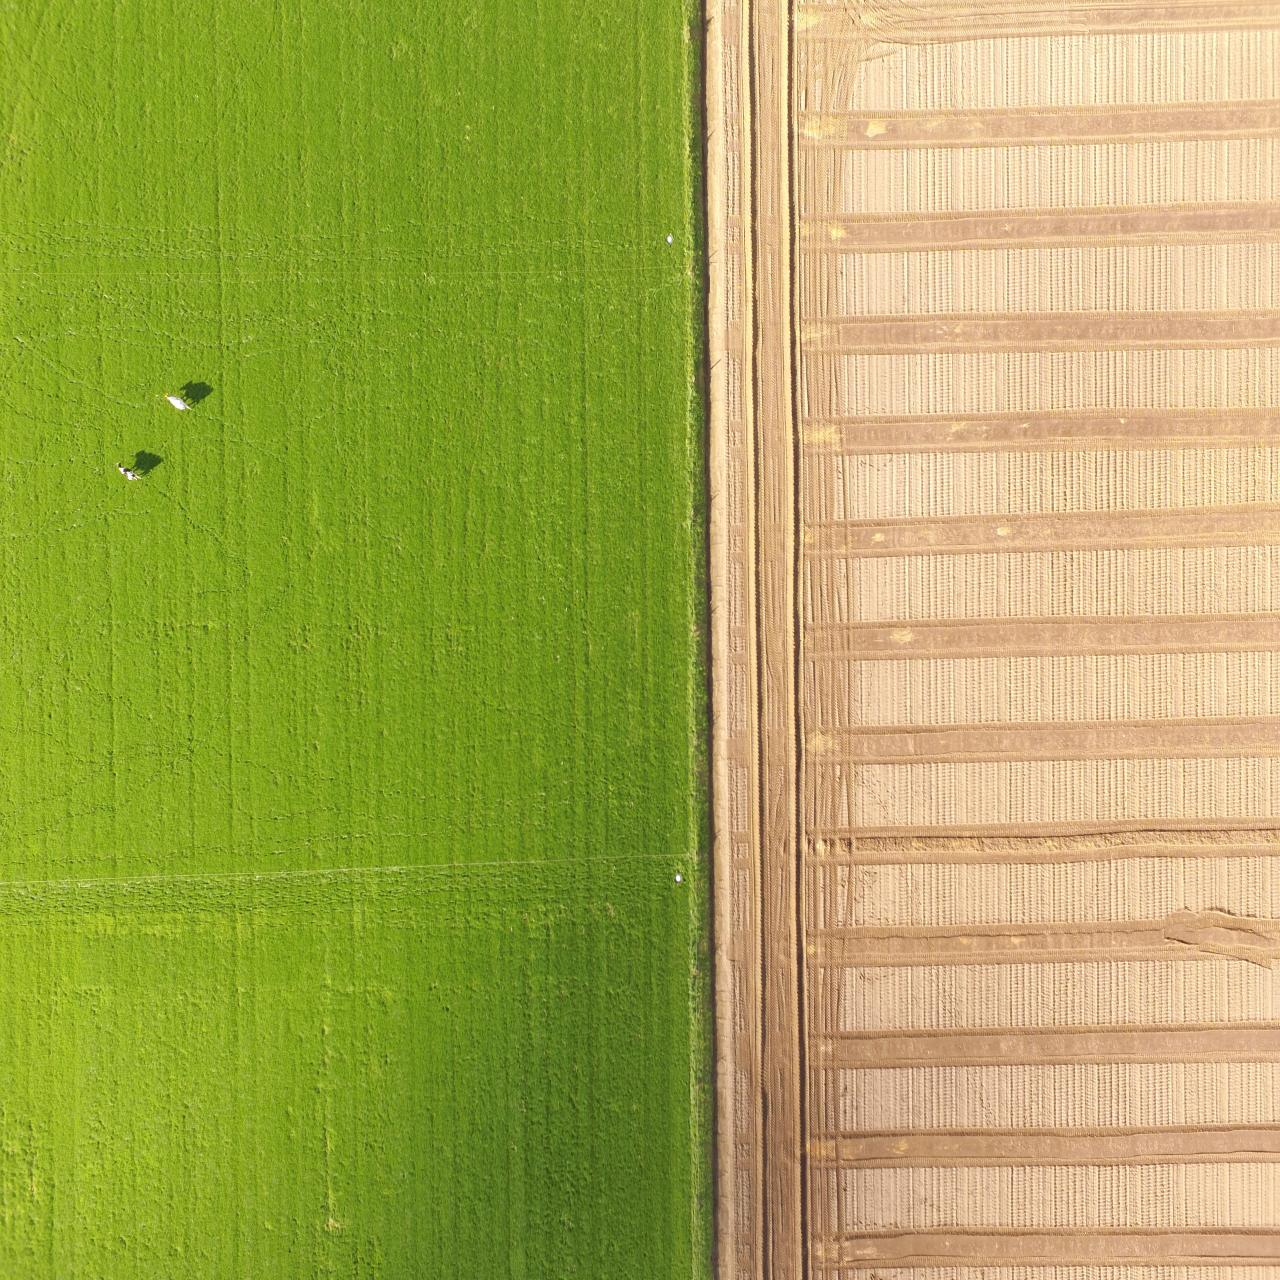cow: (162, 392, 195, 414), (115, 461, 144, 483)
